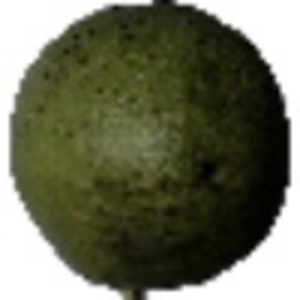abacate: (7, 2, 292, 294)
